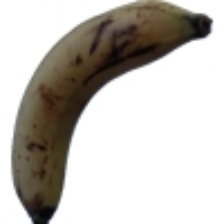banana: (6, 16, 203, 202)
